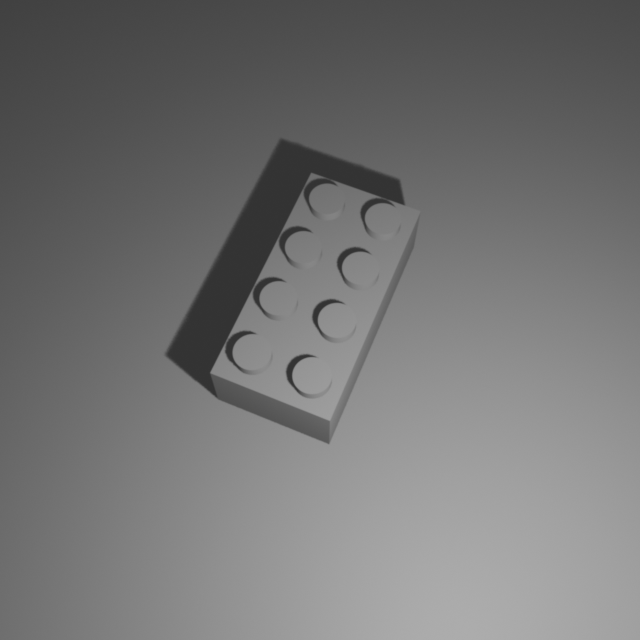lego_2x4: (209, 166, 422, 444)
